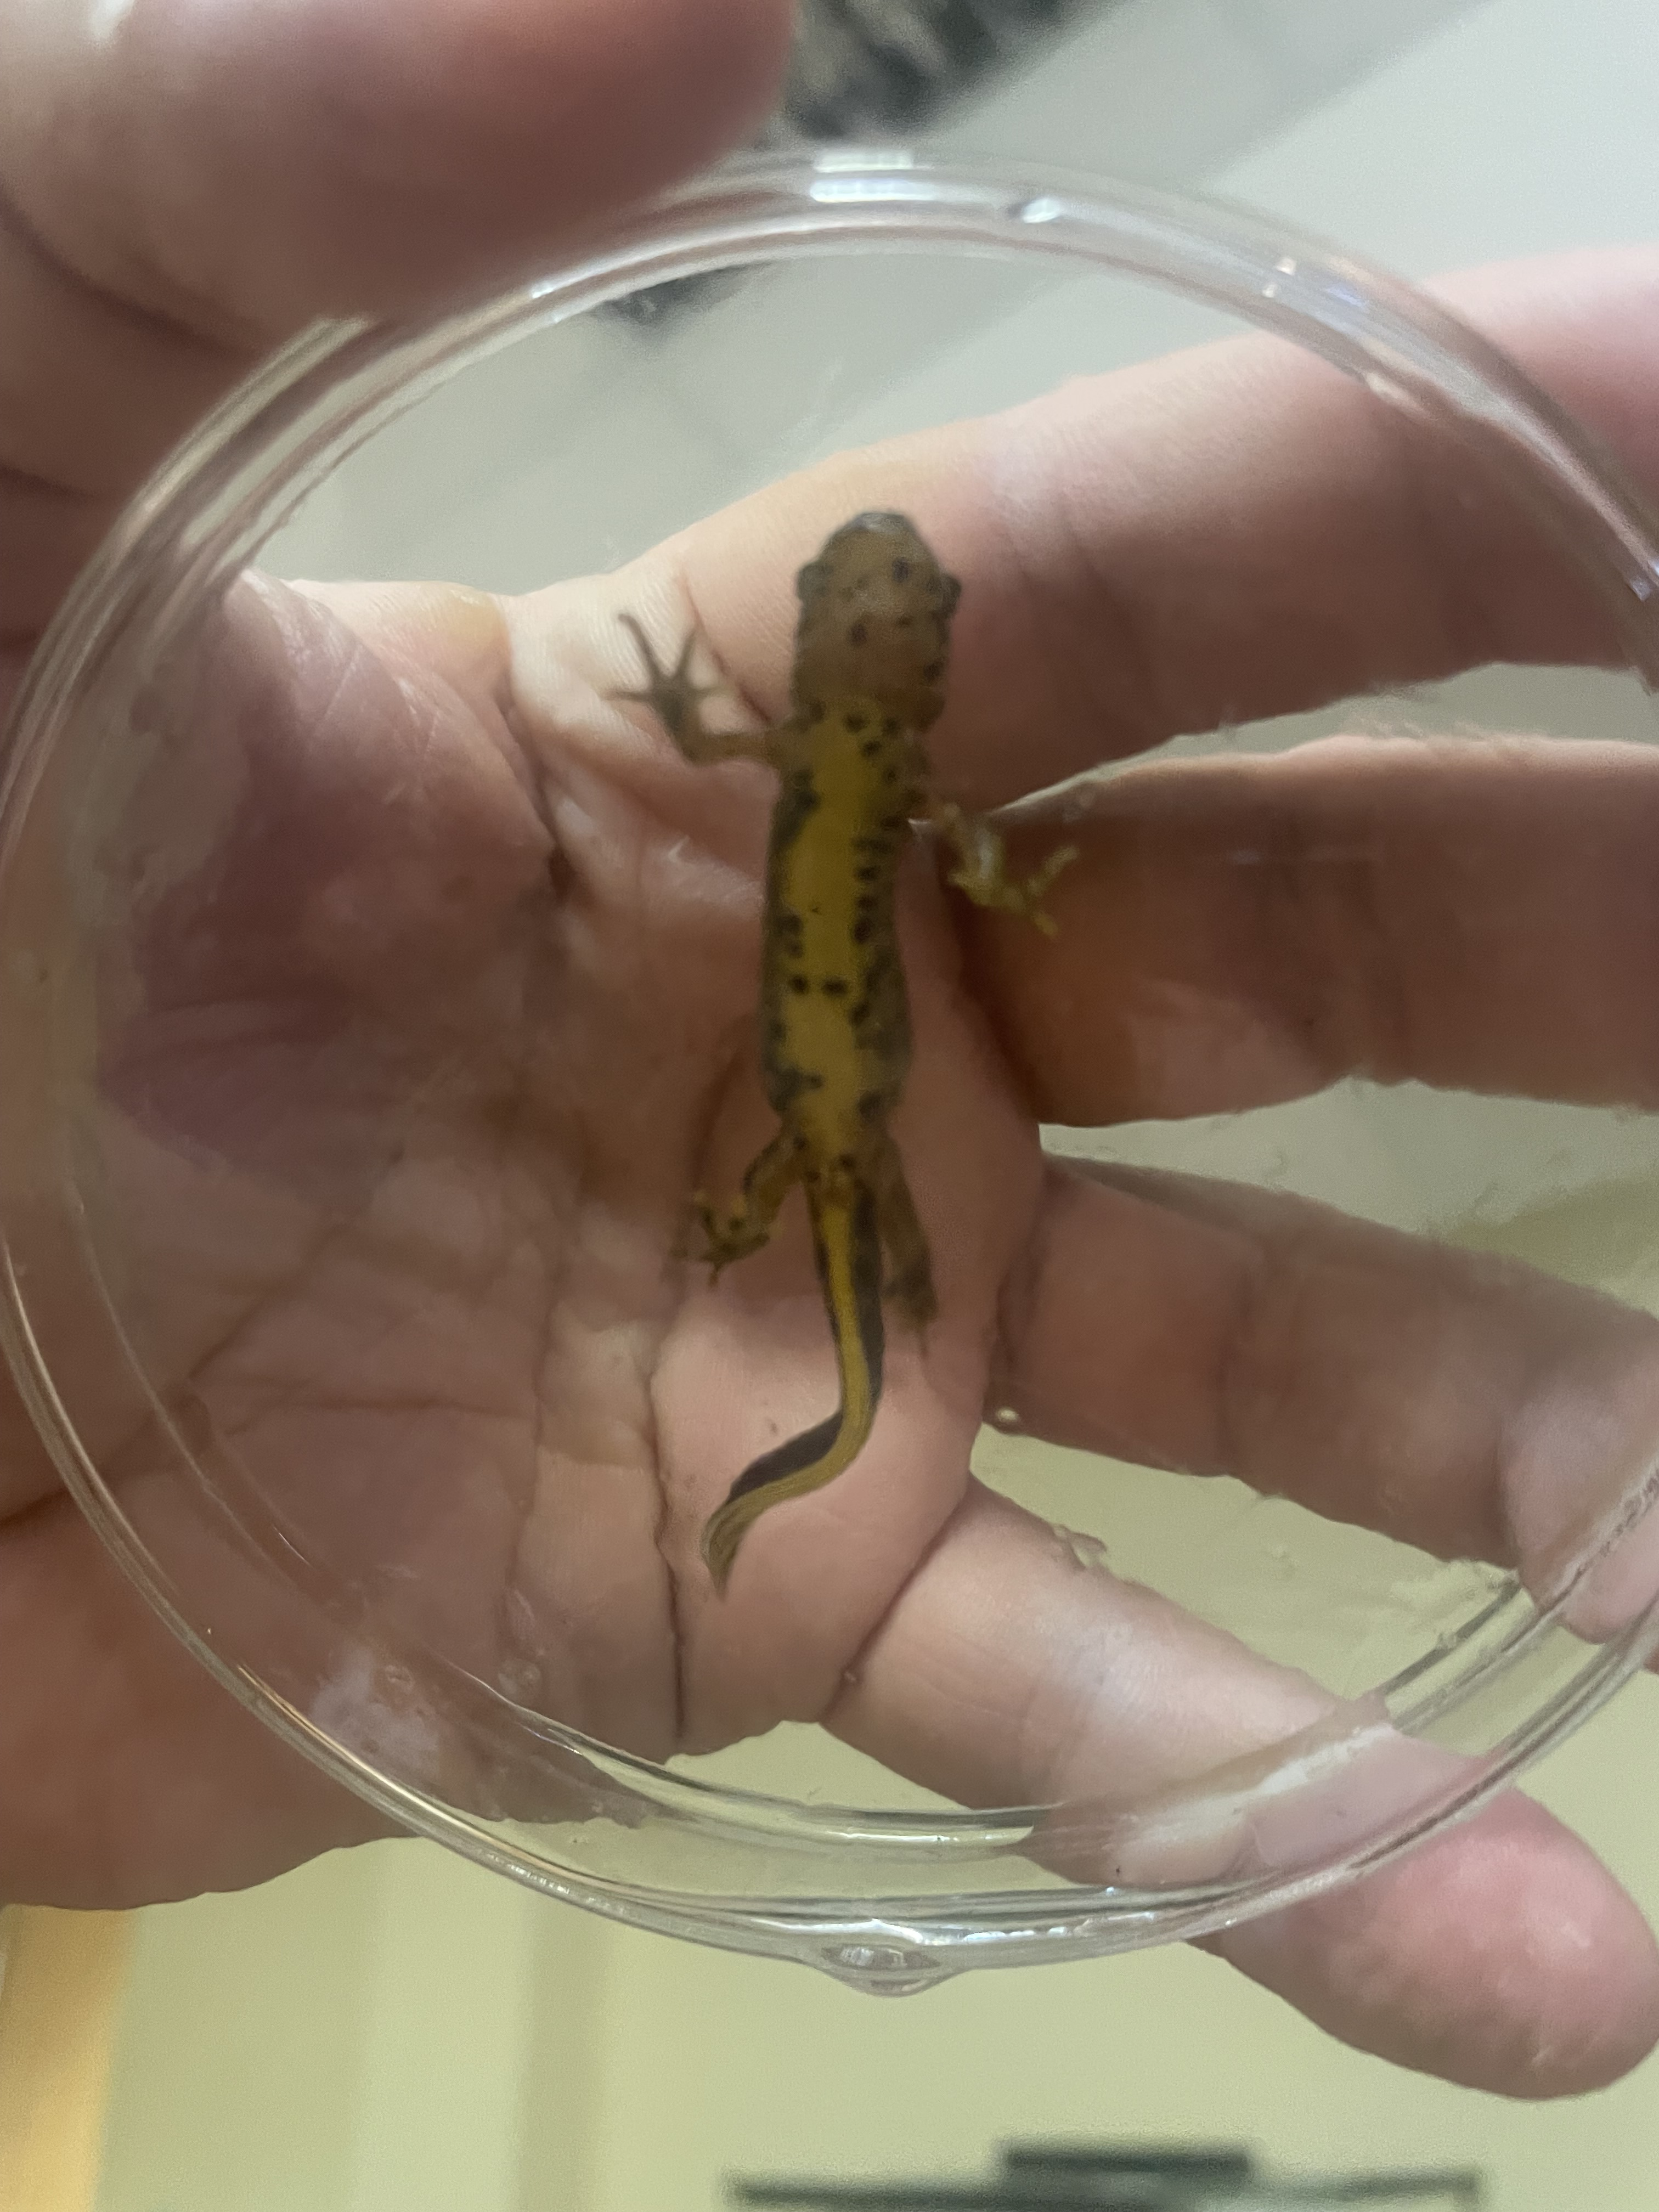Karelin_newt: (760, 770, 918, 1123)
